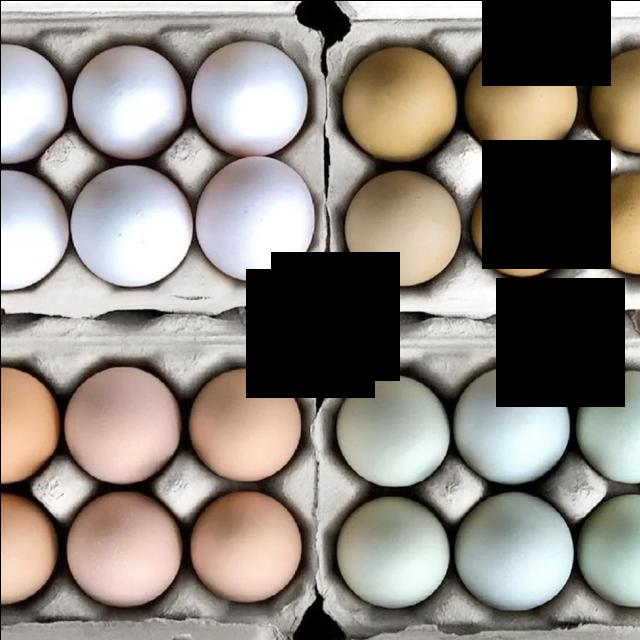eggs: (194, 156, 313, 281), (70, 165, 192, 286), (454, 490, 573, 610), (452, 366, 568, 483), (64, 365, 180, 482), (344, 169, 461, 285), (340, 45, 455, 161), (191, 39, 305, 156), (66, 492, 182, 606), (463, 43, 577, 158), (336, 374, 449, 486), (71, 45, 184, 157), (188, 368, 299, 480), (336, 497, 450, 606), (189, 491, 300, 601), (470, 171, 575, 275), (0, 169, 68, 290), (0, 43, 66, 163), (576, 370, 640, 483), (577, 493, 640, 606), (0, 368, 58, 483), (0, 493, 56, 604), (585, 171, 640, 275), (588, 47, 640, 153)
